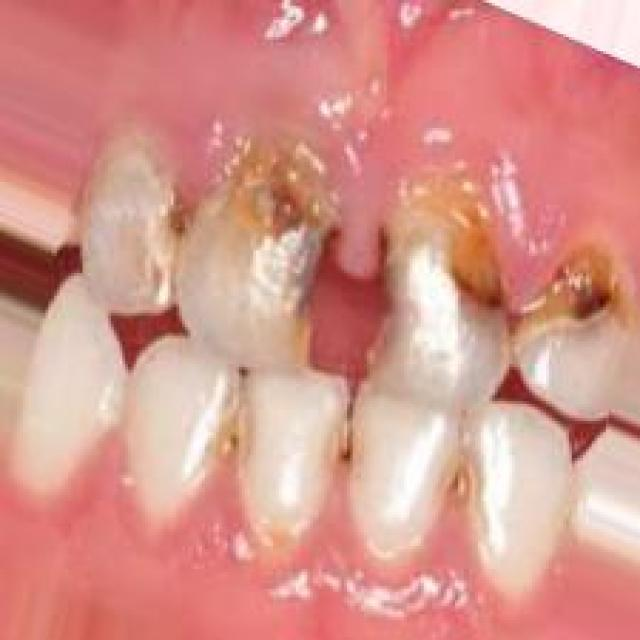caries: (364, 185, 504, 406), (198, 153, 341, 355), (506, 233, 618, 411), (202, 401, 262, 461), (429, 449, 485, 500), (326, 412, 371, 468)
